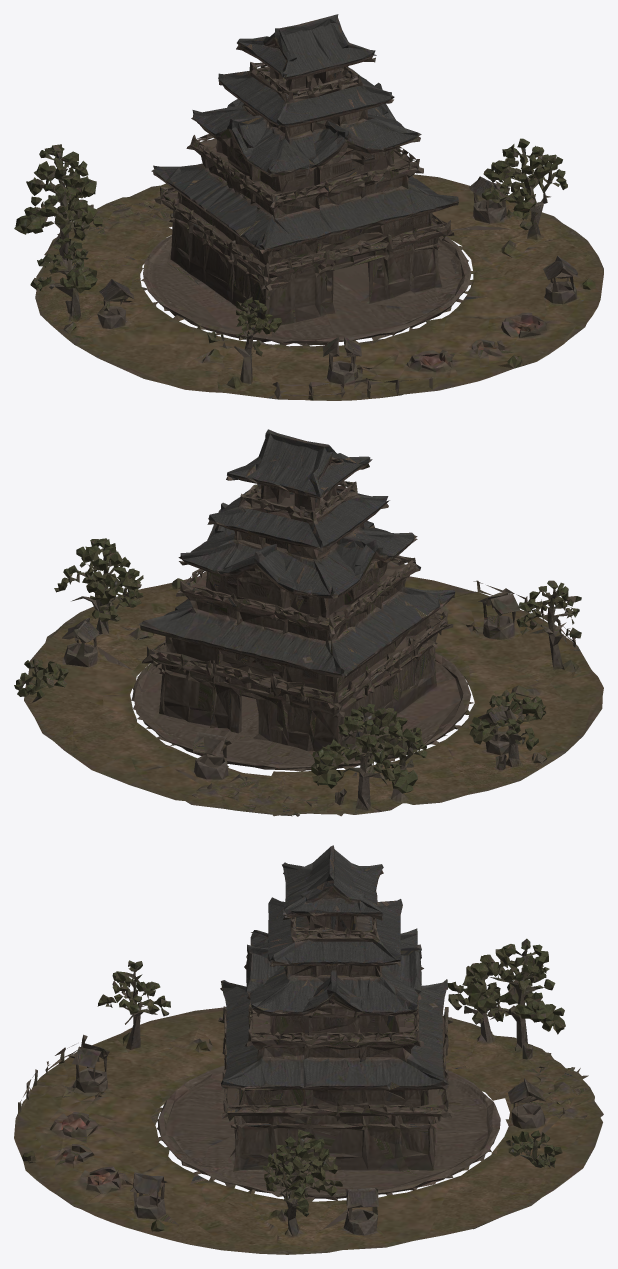
The model's file is keep_large.glb.
3 renders of one model, top to bottom at view 1: azimuth 30°, elevation 25°; view 2: azimuth 150°, elevation 25°; view 3: azimuth 270°, elevation 25°, orthographic. The views are drawn at different scales.
Size of the model in its own units: 1.89 by 0.9262 by 1.84.
Materials: 1 (1 with a texture image).
